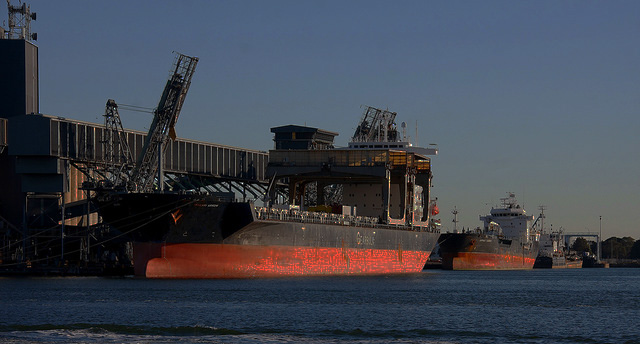bulk carrier: (103, 130, 437, 273), (441, 189, 541, 274)
